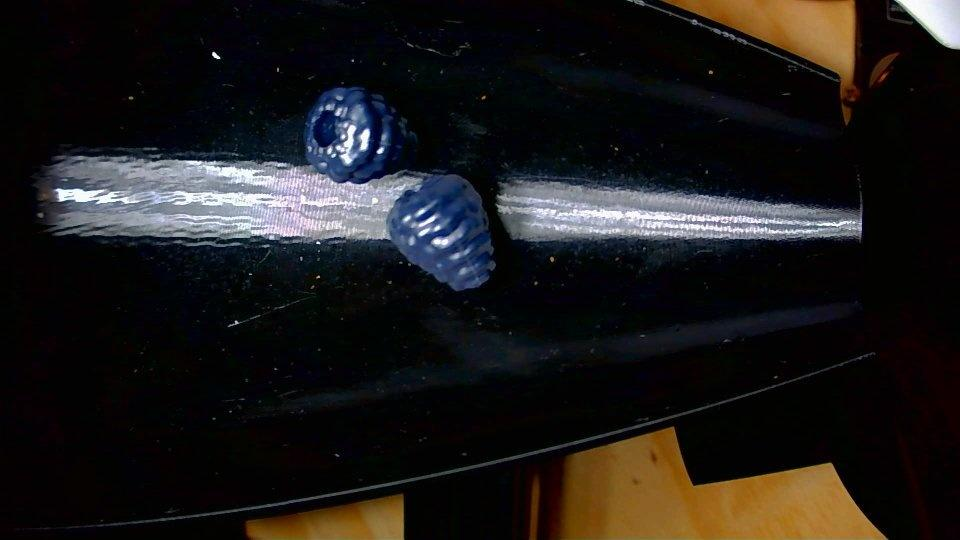berry: (386, 174, 495, 290), (304, 87, 418, 183)
